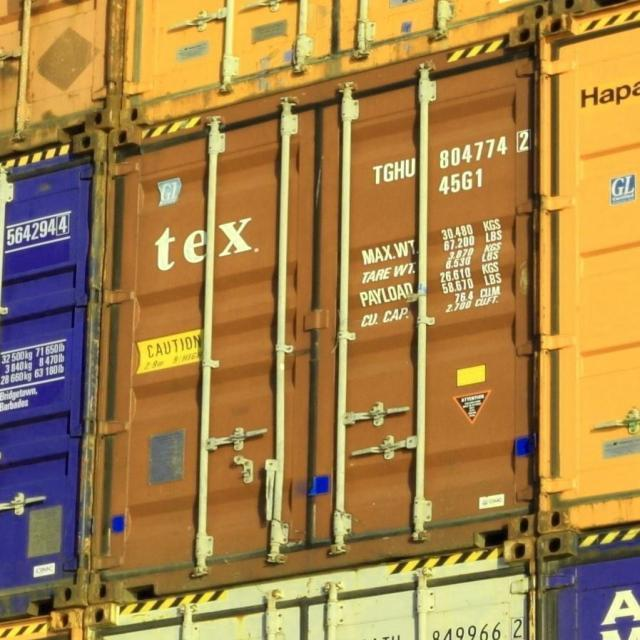ISO: (438, 171, 486, 191)
container_number: (376, 134, 527, 167)
